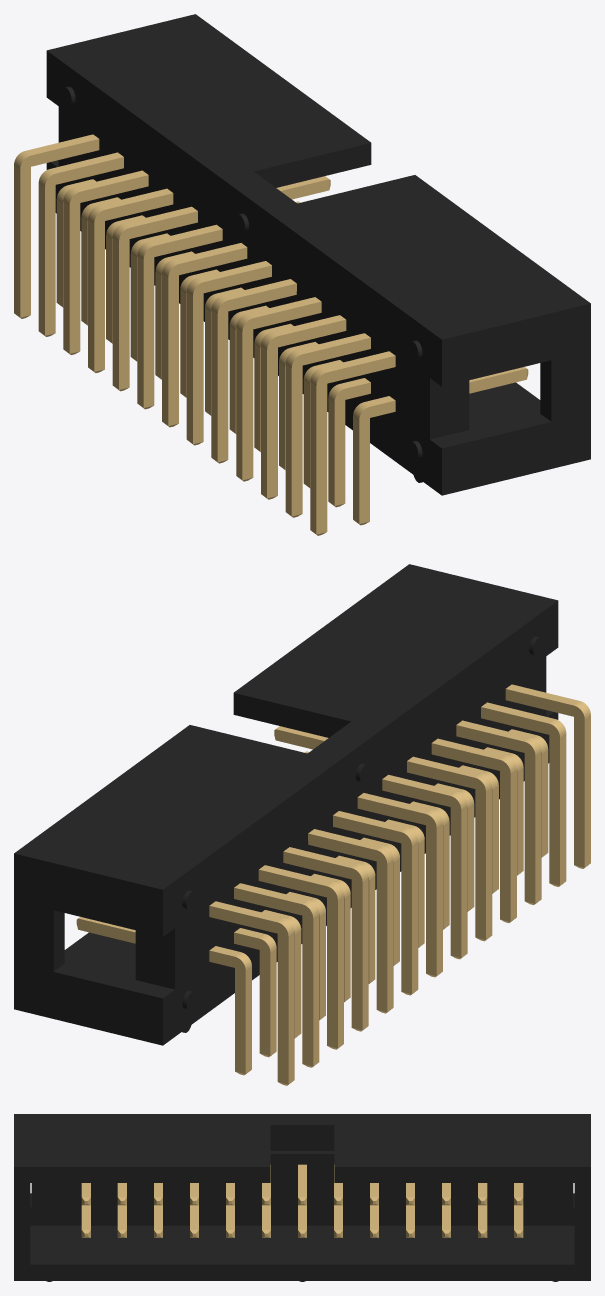
The model's file is kc-idc-header_2x13_p2.54mm_horizontal.glb.
3 renders of one model, top to bottom at view 1: azimuth 30°, elevation 25°; view 2: azimuth 150°, elevation 25°; view 3: azimuth 270°, elevation 25°, orthographic. The views are drawn at different scales.
Visible parts, largest first — view 1: 0_0_0_0, 0.75_0.5_0.25_0.9; view 2: 0_0_0_0, 0.75_0.5_0.25_0.9; view 3: 0_0_0_0, 0.75_0.5_0.25_0.9.
Part boxes in pixels (box(x1,y1,x2,y2)): 0_0_0_0: box(46, 14, 590, 495); 0.75_0.5_0.25_0.9: box(14, 134, 528, 535); 0_0_0_0: box(14, 564, 558, 1045); 0.75_0.5_0.25_0.9: box(76, 684, 590, 1085); 0_0_0_0: box(14, 1114, 590, 1281); 0.75_0.5_0.25_0.9: box(81, 1164, 523, 1237).
Bounding box in the file's own units: 1.35 × 1.21 × 4.07.
